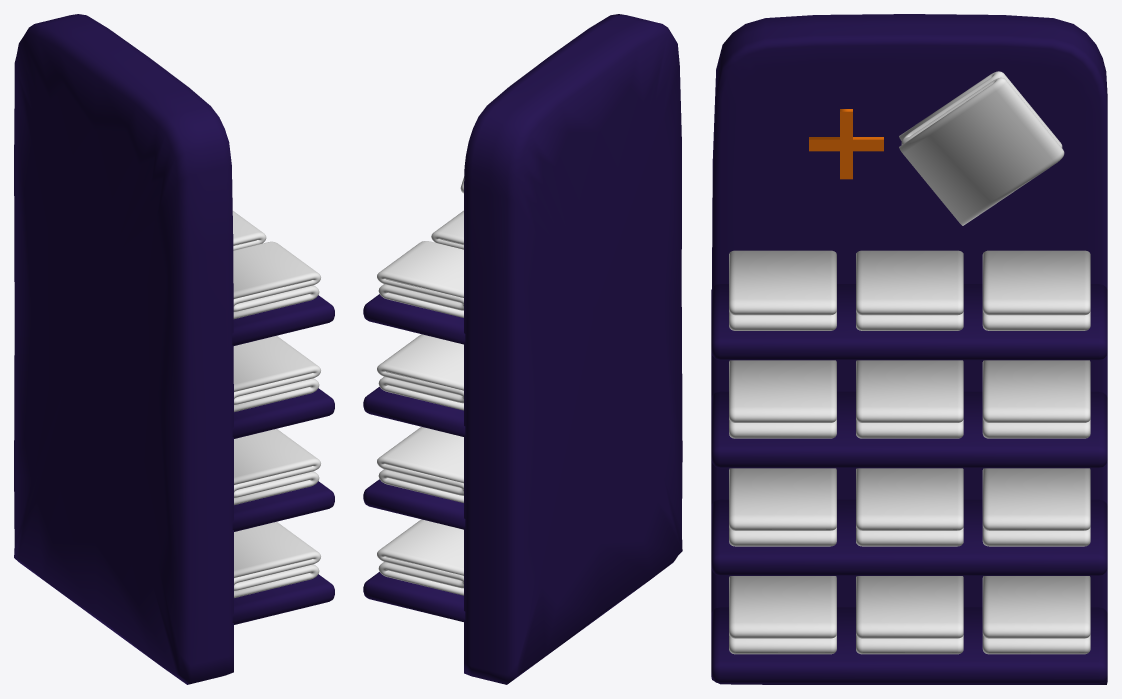
Rendered from TowelShelf.fbx.
The picture shows the model from 3 angles, left to right: view 1: azimuth 30°, elevation 25°; view 2: azimuth 150°, elevation 25°; view 3: azimuth 270°, elevation 25°; orthographic projection. The views are drawn at different scales.
Parts seen in each view (by area): view 1: Cube.004; view 2: Cube.004; view 3: Cube.004.
Part boxes in pixels (x1,y1,x2,y2): Cube.004: [14, 14, 334, 684]; Cube.004: [363, 14, 682, 684]; Cube.004: [711, 14, 1107, 684].
Size of the model in its own units: 0.5265 by 1.8 by 1.
